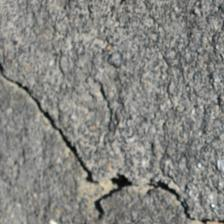Crack: (0, 26, 99, 111), (68, 82, 152, 141), (46, 79, 97, 126)
